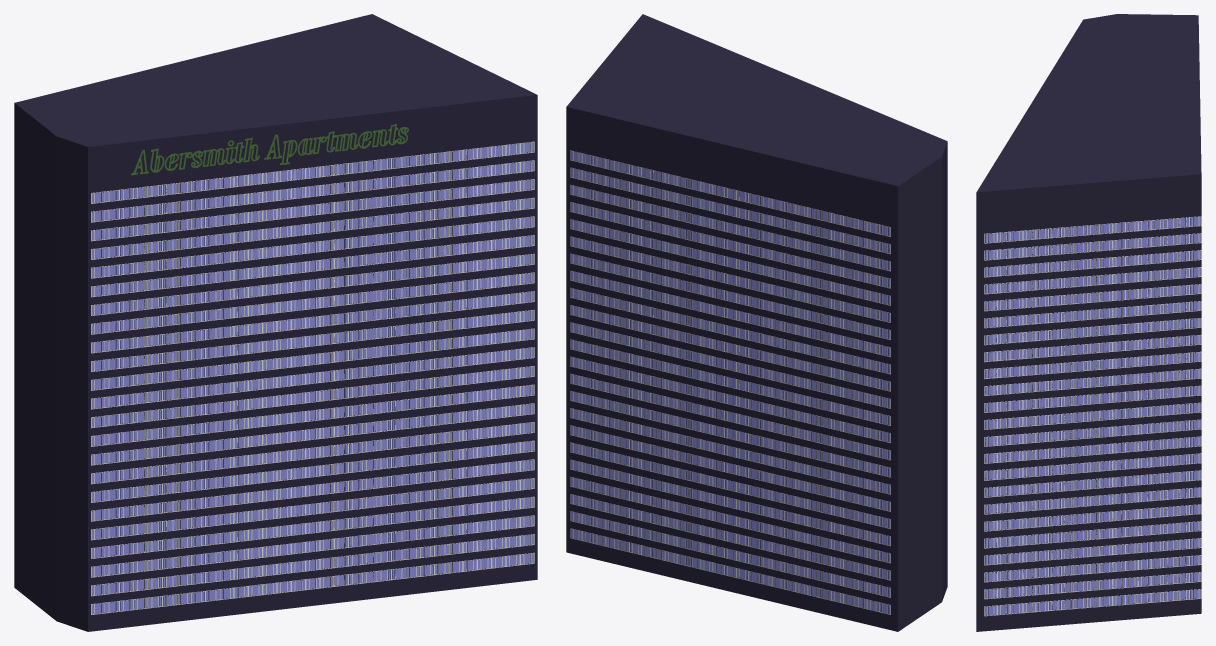
File: AbersmithApartments.fbx
The picture shows the model from 3 angles, left to right: view 1: azimuth 30°, elevation 25°; view 2: azimuth 150°, elevation 25°; view 3: azimuth 270°, elevation 25°; orthographic projection. The views are drawn at different scales.
Parts seen in each view (by area): view 1: AbersmithApartments; view 2: AbersmithApartments; view 3: AbersmithApartments.
Part boxes in pixels (bbox=[...]): AbersmithApartments: bbox=[14, 14, 537, 631]; AbersmithApartments: bbox=[566, 14, 947, 631]; AbersmithApartments: bbox=[976, 14, 1201, 631].
Bounding box in the file's own units: 7830 × 9000 × 4176.
